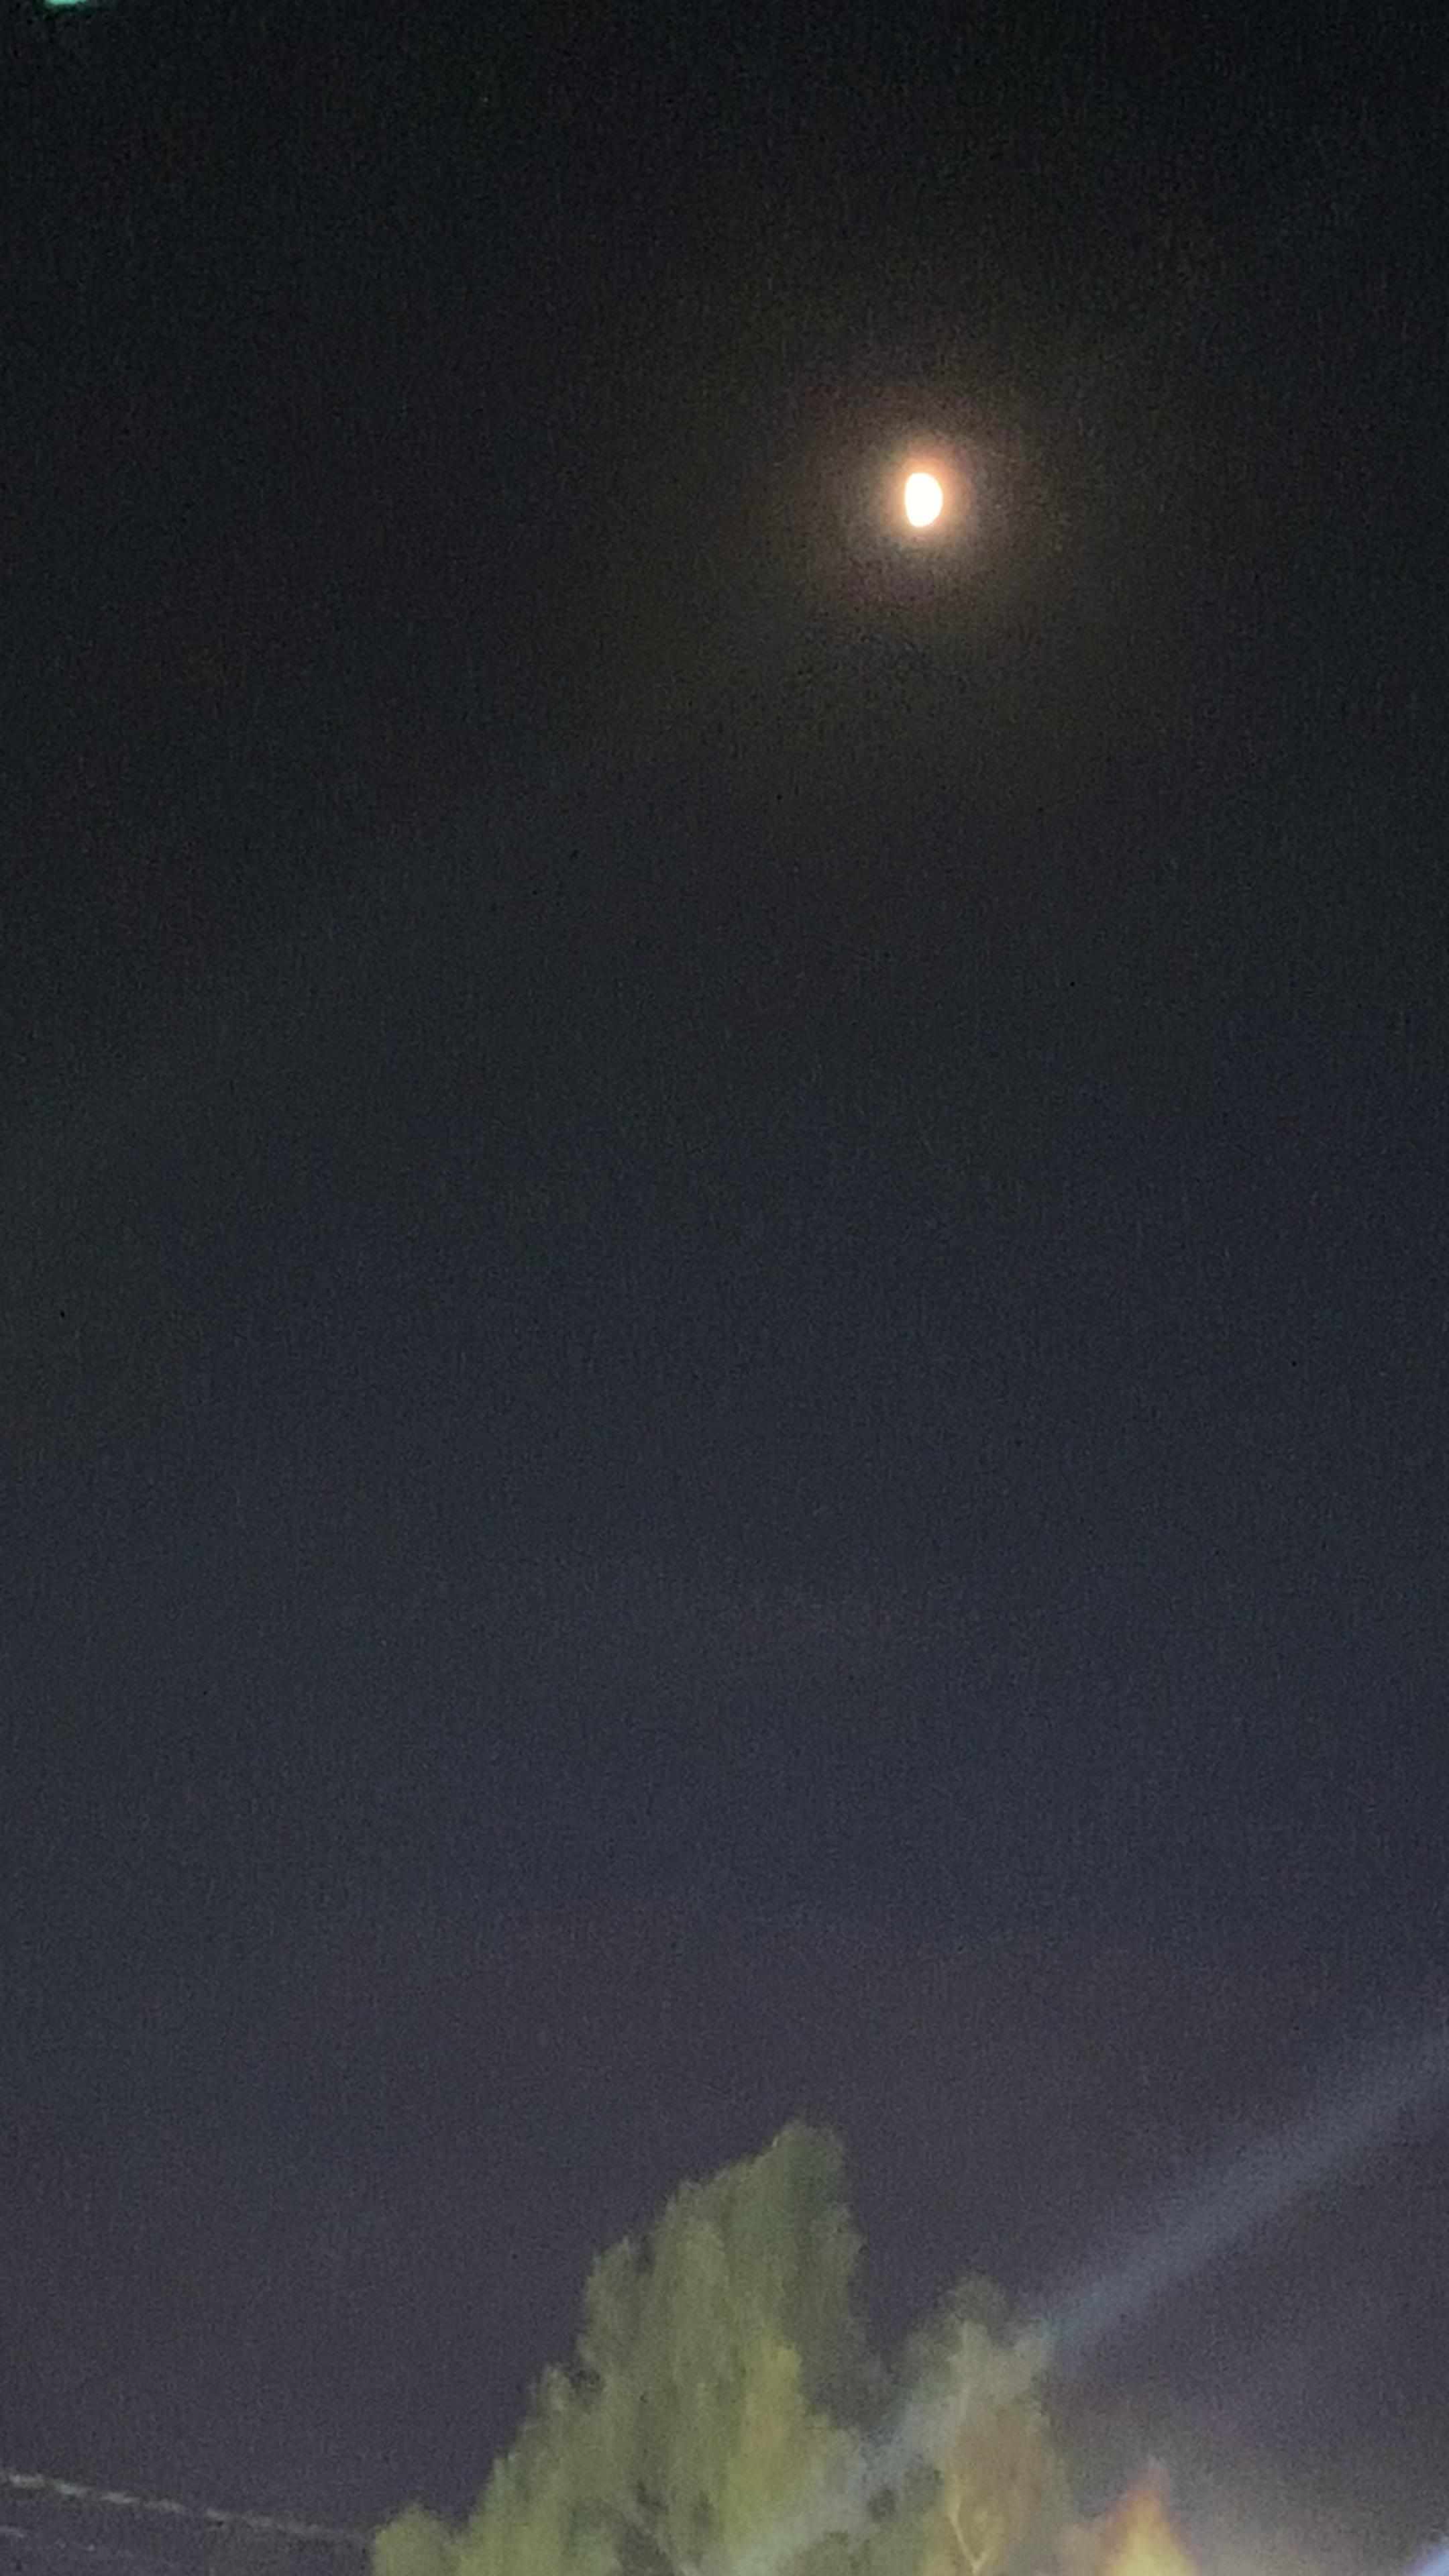moon: (863, 435, 982, 563)
